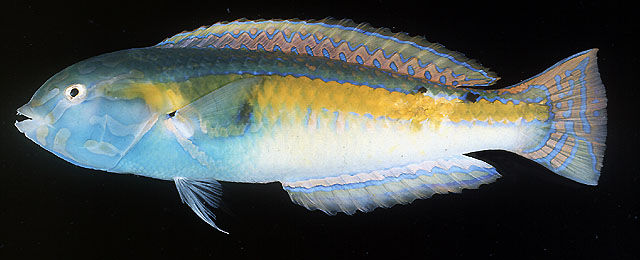fish: (14, 17, 609, 235)
